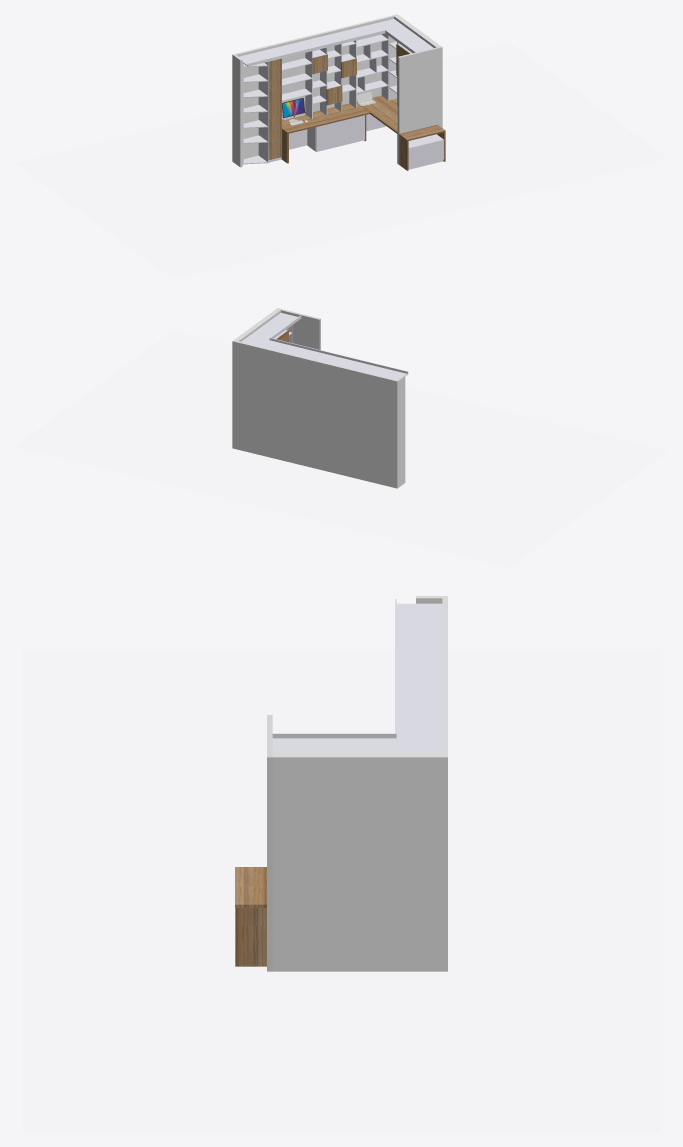
3 views of the same model, one above another, from view 1: azimuth 30°, elevation 25°; view 2: azimuth 150°, elevation 25°; view 3: azimuth 270°, elevation 25° (orthographic). The views are drawn at different scales.
Visible parts, largest first — view 1: {756E3211-DB15-4e96-BB58-A8753FCFEBC5}_Node, {2590209C-A5EE-44d1-9733-87BE212BF174}_Node, {BAFE450C-77DB-45e5-90B1-C8B08233FE8B}_Node, {B0A9FC50-0F95-4a96-BEF0-6EECF93D0CFA}_Node, {0BE8EE06-28D7-43ef-AF62-DB2E2739DD41}_Node, {F5C2D8C4-D3E8-4c8b-98E6-3CFF09790E0B}_Node, {3996E2A2-7F69-4f6d-880C-5EA976D8D1D4}_Node, {0FAF50BA-87FD-41ee-9C10-5FE987994DDE}_Node, {D234F32C-9B04-46eb-9BA9-3C3F392FCD8F}_Node, {462B27E2-6253-41f5-985E-501A112E8348}_Node, {189A19E5-EAC9-45d8-90A8-FEDCEB5133DD}_Node, {975F6A04-3DDF-41bb-8E2D-79F6074B666A}_Node (+5 smaller); view 2: {2590209C-A5EE-44d1-9733-87BE212BF174}_Node, {BAFE450C-77DB-45e5-90B1-C8B08233FE8B}_Node, {756E3211-DB15-4e96-BB58-A8753FCFEBC5}_Node, {4B9C6090-1039-4735-B4D2-92A0604A5761}_Node, {0BE8EE06-28D7-43ef-AF62-DB2E2739DD41}_Node, {0FAF50BA-87FD-41ee-9C10-5FE987994DDE}_Node, {462B27E2-6253-41f5-985E-501A112E8348}_Node; view 3: {4B9C6090-1039-4735-B4D2-92A0604A5761}_Node, {0BE8EE06-28D7-43ef-AF62-DB2E2739DD41}_Node, {0FAF50BA-87FD-41ee-9C10-5FE987994DDE}_Node, {7CAD1C48-3E7D-47d3-B3C8-F5E1FBB09B7A}_Node, {462B27E2-6253-41f5-985E-501A112E8348}_Node, {756E3211-DB15-4e96-BB58-A8753FCFEBC5}_Node, {0246BE92-27C9-49b7-BCF7-DE9E03BA6228}_Node, {2590209C-A5EE-44d1-9733-87BE212BF174}_Node.
Boxes of the visible parts, x1,y1,x2,y2 form: {756E3211-DB15-4e96-BB58-A8753FCFEBC5}_Node: (397,46,442,164); {2590209C-A5EE-44d1-9733-87BE212BF174}_Node: (237,15,393,158); {BAFE450C-77DB-45e5-90B1-C8B08233FE8B}_Node: (232,54,242,167); {B0A9FC50-0F95-4a96-BEF0-6EECF93D0CFA}_Node: (282,103,369,133); {0BE8EE06-28D7-43ef-AF62-DB2E2739DD41}_Node: (308,19,404,46); {F5C2D8C4-D3E8-4c8b-98E6-3CFF09790E0B}_Node: (356,95,397,133); {3996E2A2-7F69-4f6d-880C-5EA976D8D1D4}_Node: (268,106,281,159); {0FAF50BA-87FD-41ee-9C10-5FE987994DDE}_Node: (239,40,316,65); {D234F32C-9B04-46eb-9BA9-3C3F392FCD8F}_Node: (268,58,281,109); {462B27E2-6253-41f5-985E-501A112E8348}_Node: (388,27,433,52); {189A19E5-EAC9-45d8-90A8-FEDCEB5133DD}_Node: (305,51,312,118); {975F6A04-3DDF-41bb-8E2D-79F6074B666A}_Node: (258,111,268,163); {2590209C-A5EE-44d1-9733-87BE212BF174}_Node: (237,341,393,487); {BAFE450C-77DB-45e5-90B1-C8B08233FE8B}_Node: (395,375,405,488); {756E3211-DB15-4e96-BB58-A8753FCFEBC5}_Node: (276,308,320,349); {4B9C6090-1039-4735-B4D2-92A0604A5761}_Node: (232,309,280,449); {0BE8EE06-28D7-43ef-AF62-DB2E2739DD41}_Node: (241,335,335,362); {0FAF50BA-87FD-41ee-9C10-5FE987994DDE}_Node: (328,356,407,379); {462B27E2-6253-41f5-985E-501A112E8348}_Node: (250,313,297,340); {4B9C6090-1039-4735-B4D2-92A0604A5761}_Node: (272,752,447,971); {0BE8EE06-28D7-43ef-AF62-DB2E2739DD41}_Node: (396,673,442,752); {0FAF50BA-87FD-41ee-9C10-5FE987994DDE}_Node: (396,603,442,673); {7CAD1C48-3E7D-47d3-B3C8-F5E1FBB09B7A}_Node: (235,908,266,966); {462B27E2-6253-41f5-985E-501A112E8348}_Node: (272,738,396,752); {756E3211-DB15-4e96-BB58-A8753FCFEBC5}_Node: (267,715,272,971); {0246BE92-27C9-49b7-BCF7-DE9E03BA6228}_Node: (235,867,266,907); {2590209C-A5EE-44d1-9733-87BE212BF174}_Node: (442,600,447,752).
Size of the model in its own units: 12.53 by 2.59 by 6.99.
149 materials, 122 textured.
